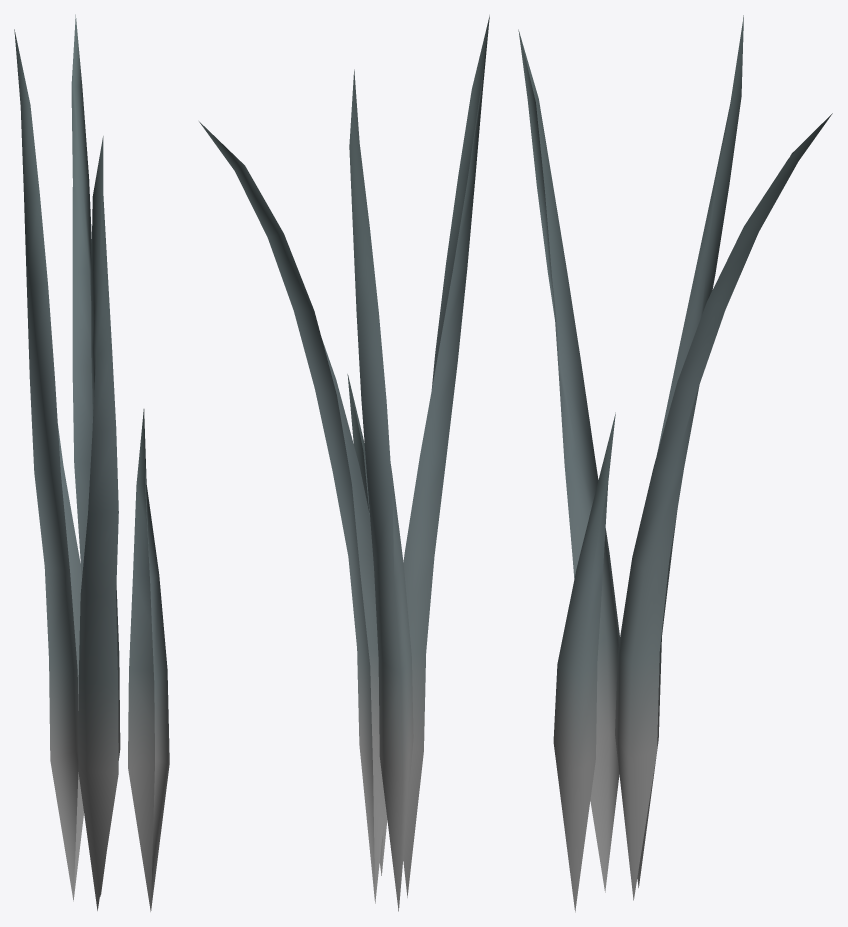
The model's file is plants-grasses-reeds-grass-blades_v8.glb.
3 views of the same model, side by side, from view 1: azimuth 30°, elevation 25°; view 2: azimuth 150°, elevation 25°; view 3: azimuth 270°, elevation 25° (orthographic). The views are drawn at different scales.
Parts seen in each view (by area): view 1: Grass Blades_v8; view 2: Grass Blades_v8; view 3: Grass Blades_v8.
Part boxes in pixels (box(x1,y1,x2,y2)): Grass Blades_v8: box(14, 14, 169, 911); Grass Blades_v8: box(199, 15, 489, 911); Grass Blades_v8: box(518, 15, 832, 912).
Bounding box in the file's own units: 0.0624 × 0.4 × 0.1312.
